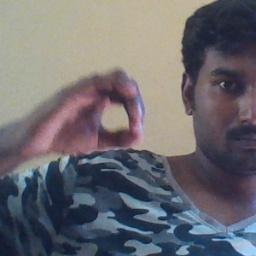O: (20, 67, 149, 162)
